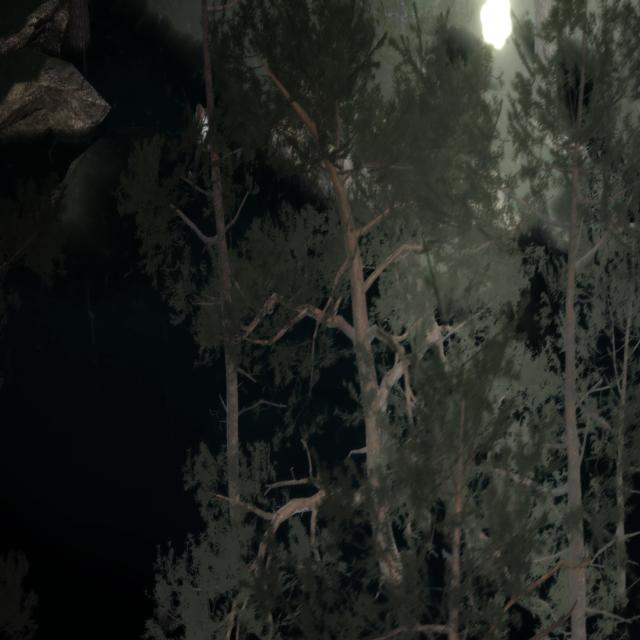Human: (190, 100, 213, 164)
